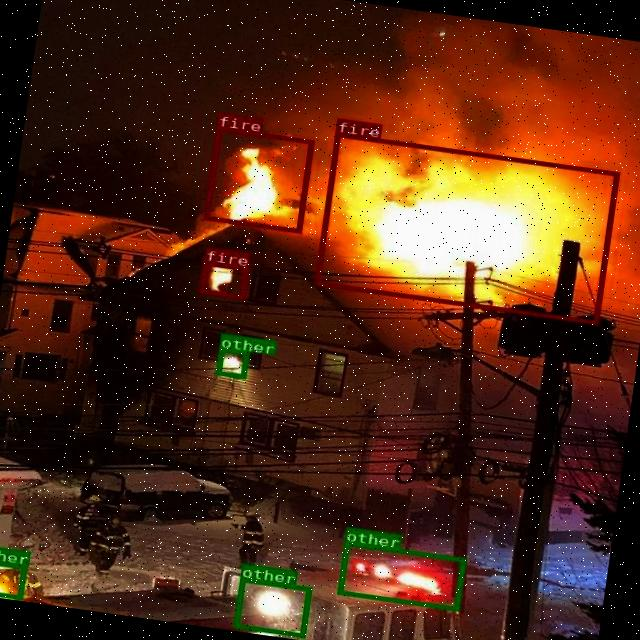fire: (313, 132, 618, 324), (202, 126, 314, 232), (199, 260, 248, 299)
